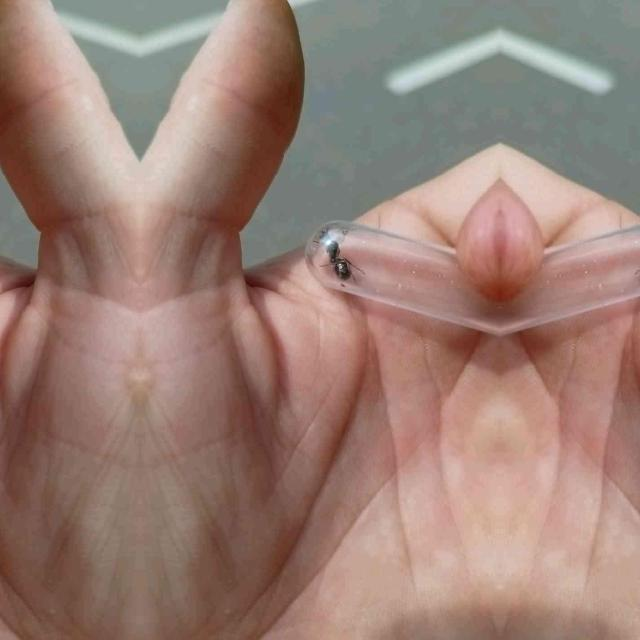Formica: (314, 222, 364, 284)
